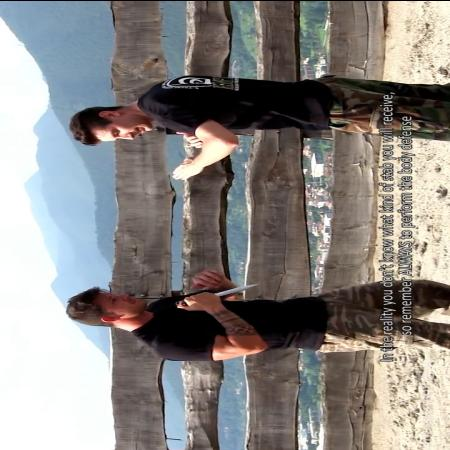long weapon: (172, 282, 262, 310)
